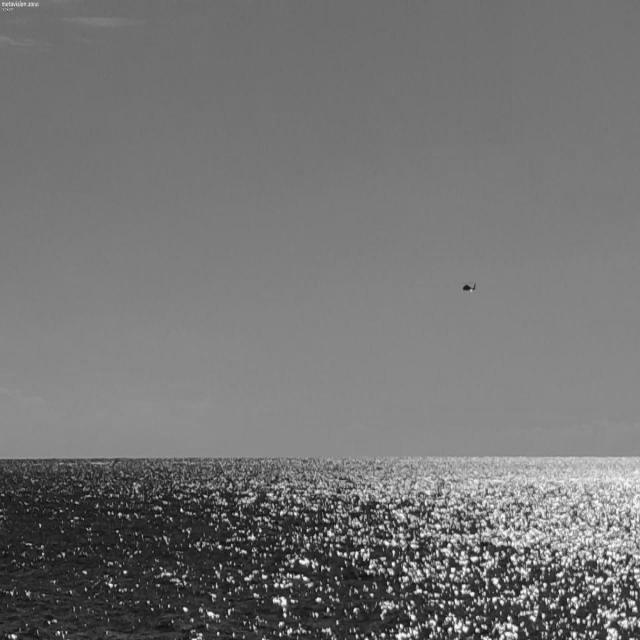helikopter: (442, 253, 500, 324)
